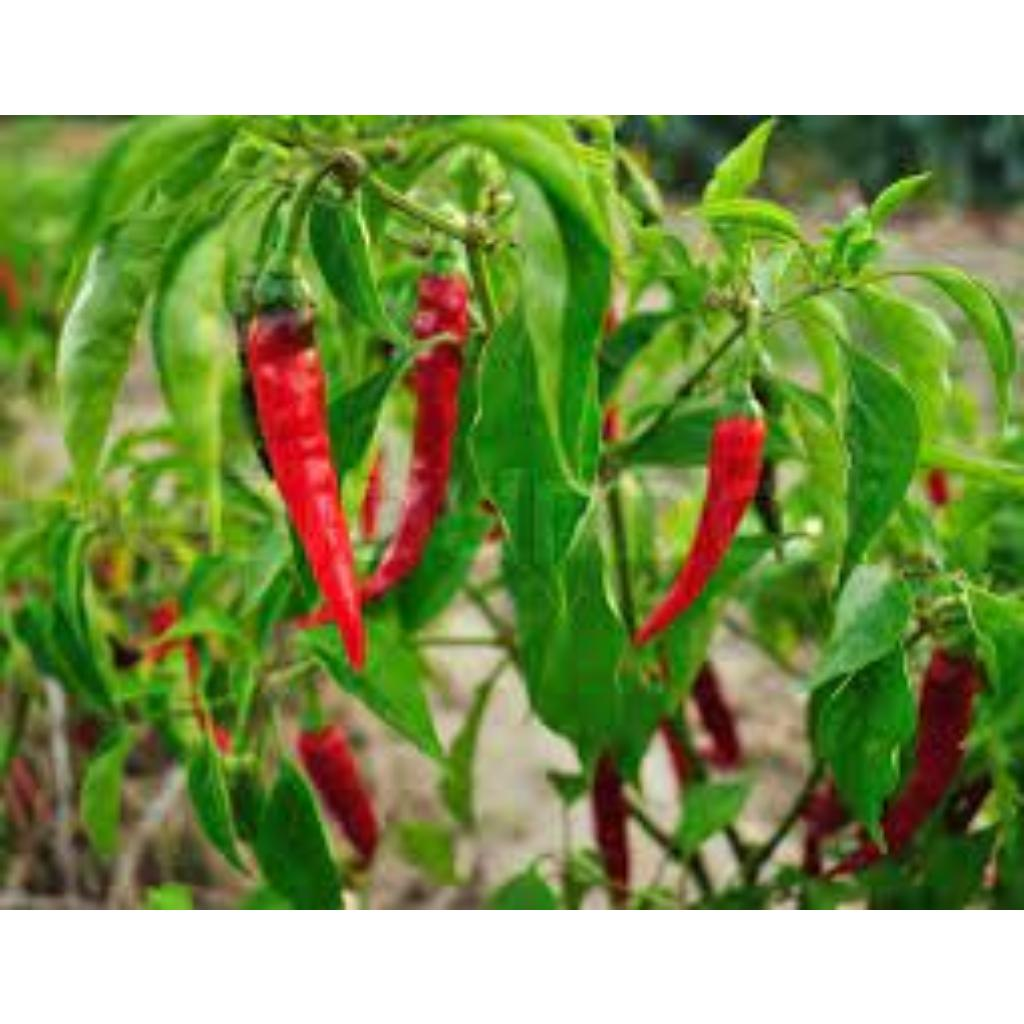chili: (246, 308, 362, 667), (362, 268, 461, 599), (634, 414, 766, 643), (882, 648, 980, 853)
